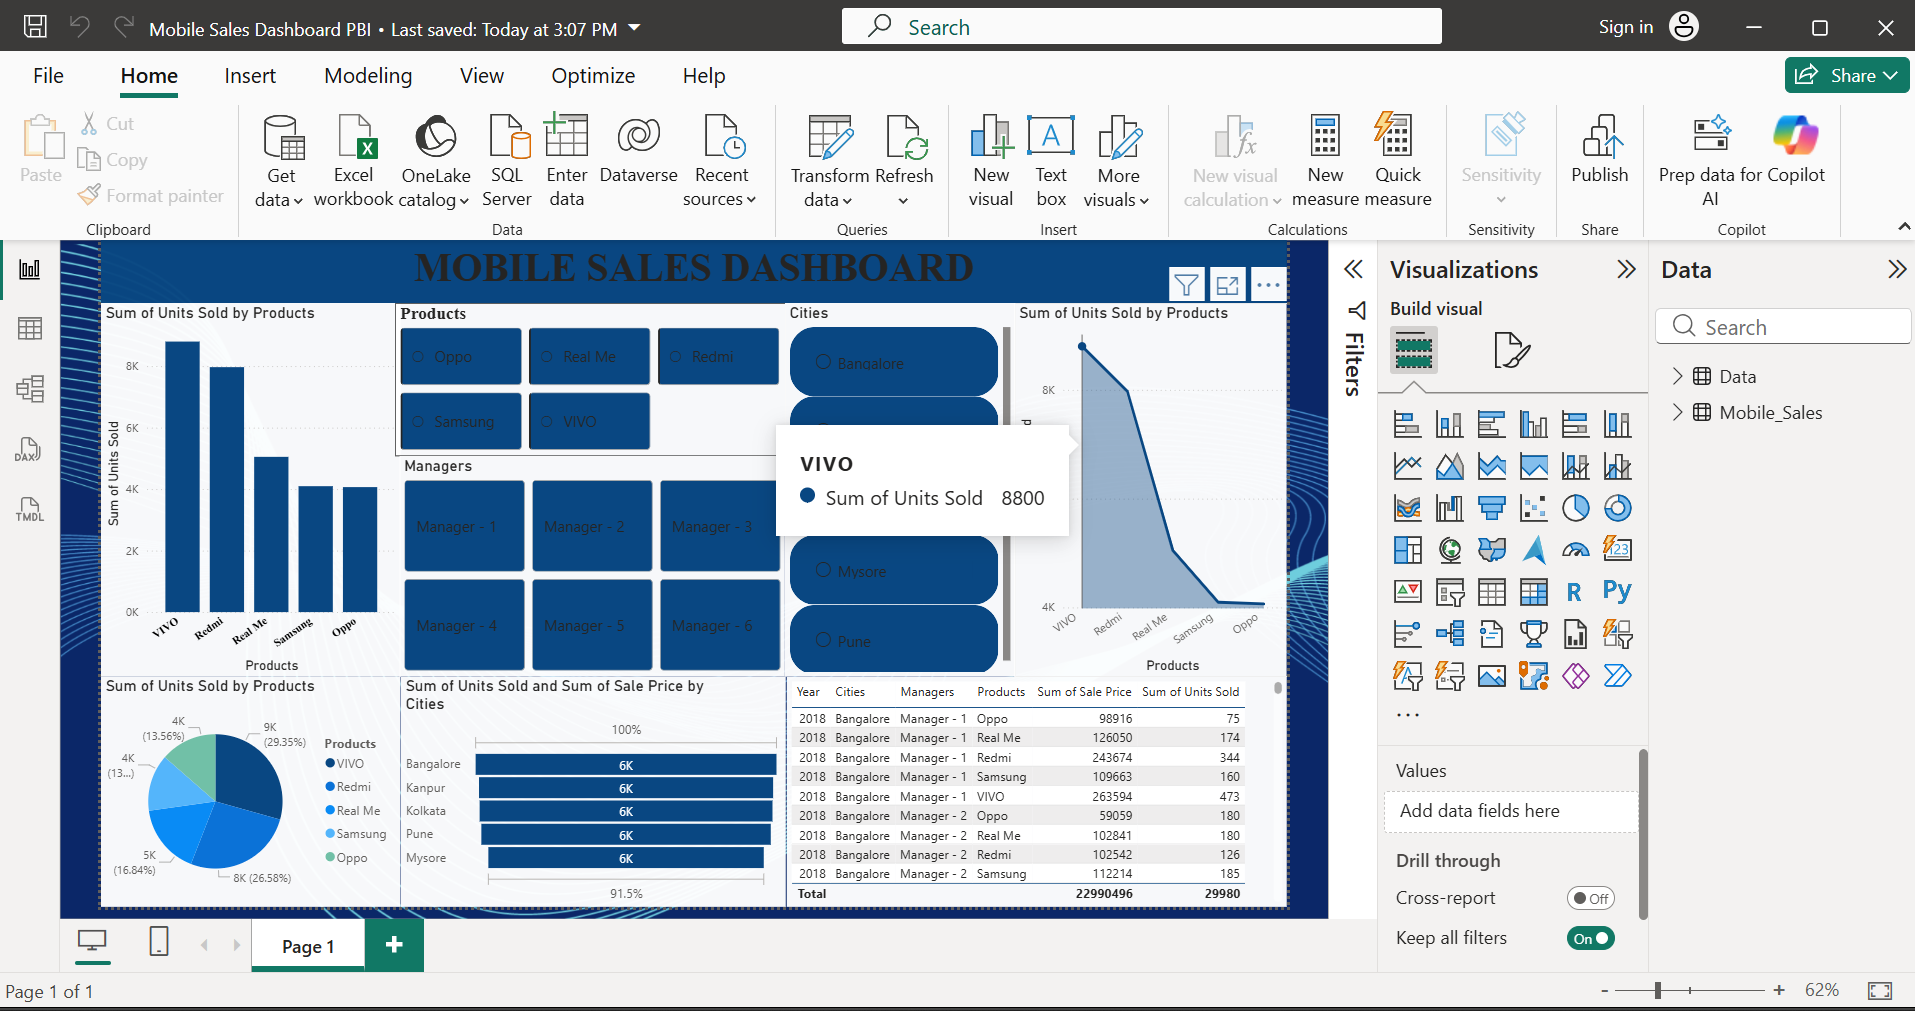

What the dashboard file says about the page in this screenshot:
{"tool":"powerbi","page":{"name":"Page 1","canvas":[1280,720],"ordinal":0},"visuals":[{"type":"textbox","box":[0,0,1280,68.3],"z":0},{"type":"columnChart","fields":{"Category":["Mobile_Sales.Product"],"Y":["Sum(Mobile_Sales.Units Sold)"]},"box":[0,68.3,323.3,403.3],"z":1000},{"type":"advancedSlicerVisual","fields":{"Values":["Mobile_Sales.Product"]},"box":[316.7,68.3,421.7,165],"z":2000},{"type":"pieChart","fields":{"Y":["Sum(Mobile_Sales.Units Sold)"],"Category":["Mobile_Sales.Product"]},"box":[0,471.7,323.3,248.3],"z":3000},{"type":"advancedSlicerVisual","fields":{"Values":["Mobile_Sales.Manager"]},"box":[323,233,416,238],"z":4000},{"type":"areaChart","fields":{"Category":["Mobile_Sales.Product"],"Y":["Sum(Mobile_Sales.Units Sold)"]},"box":[986.7,68.3,293.3,403.3],"z":5000},{"type":"funnel","fields":{"Category":["Mobile_Sales.Country"],"Y":["Sum(Mobile_Sales.Units Sold)"]},"box":[323.3,471.7,415,248.3],"z":6000},{"type":"listSlicer","fields":{"Values":["Mobile_Sales.Country"]},"box":[738.3,68.3,248.3,403.3],"z":7000},{"type":"tableEx","fields":{"Values":["Mobile_Sales.Year","Mobile_Sales.Country","Mobile_Sales.Manager","Mobile_Sales.Product","Sum(Mobile_Sales.Sale Price)","Sum(Mobile_Sales.Units Sold)"]},"box":[740,471.7,540,248.3],"z":8000}]}

Visuals, with their boxes on the page's 1280x720 design canvas (x1, y1, x2, y2). These are canvas units, not pixel positions in the 1915x1011 screenshot, which may show the page scaled, cropped or inside an application window:
textbox: bbox(0, 0, 1280, 68)
columnChart - Mobile_Sales.Product x Sum(Mobile_Sales.Units Sold): bbox(0, 68, 323, 472)
advancedSlicerVisual - Mobile_Sales.Product: bbox(317, 68, 738, 233)
pieChart - Sum(Mobile_Sales.Units Sold) x Mobile_Sales.Product: bbox(0, 472, 323, 720)
advancedSlicerVisual - Mobile_Sales.Manager: bbox(323, 233, 739, 471)
areaChart - Mobile_Sales.Product x Sum(Mobile_Sales.Units Sold): bbox(987, 68, 1280, 472)
funnel - Mobile_Sales.Country x Sum(Mobile_Sales.Units Sold): bbox(323, 472, 738, 720)
listSlicer - Mobile_Sales.Country: bbox(738, 68, 987, 472)
tableEx - Mobile_Sales.Year x Mobile_Sales.Country: bbox(740, 472, 1280, 720)
